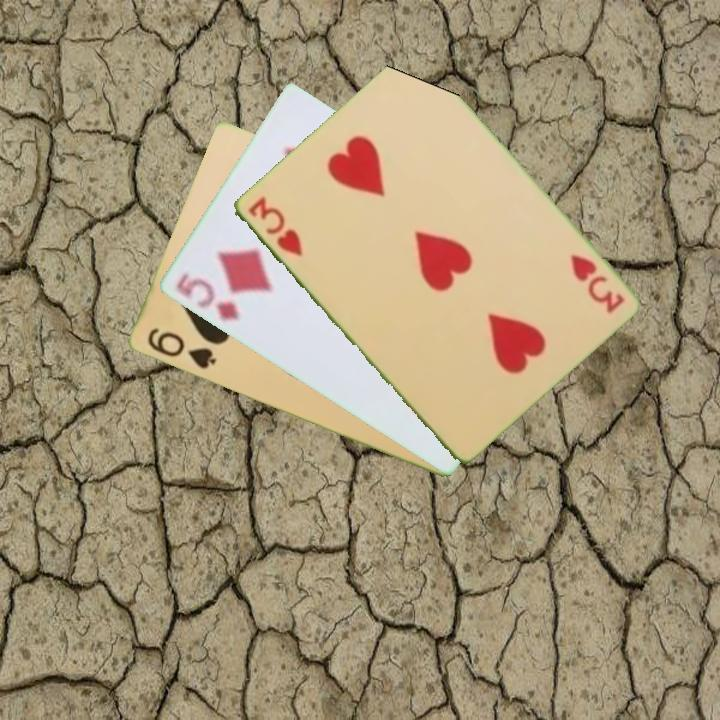3h: (243, 192, 305, 260), (566, 250, 627, 316)
5d: (172, 269, 242, 324)
6s: (143, 324, 219, 372)
